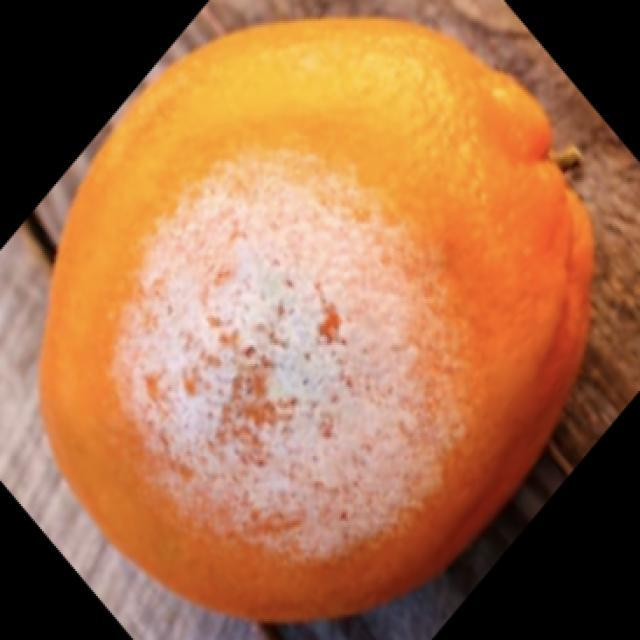sedikit-busuk: (41, 19, 592, 622)
